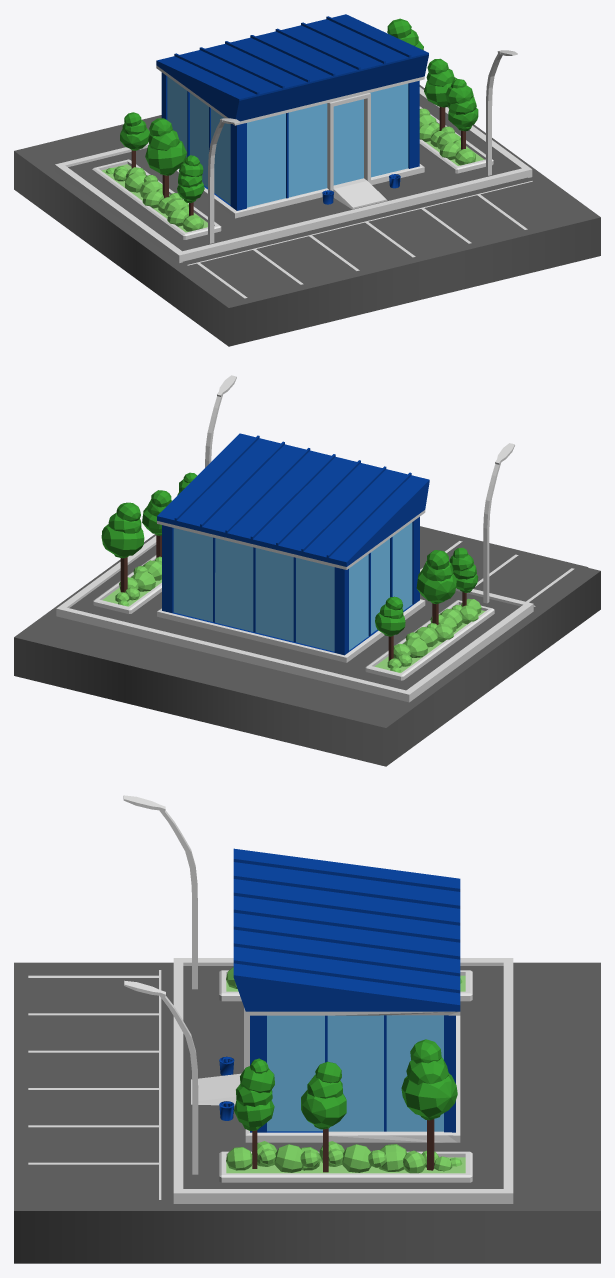
The model's file is shop1.glb.
3 renders of one model, top to bottom at view 1: azimuth 30°, elevation 25°; view 2: azimuth 150°, elevation 25°; view 3: azimuth 270°, elevation 25°, orthographic. The views are drawn at different scales.
Visible parts, largest first — view 1: Shop; view 2: Shop; view 3: Shop.
Part boxes in pixels (x1=…): Shop: x1=14, y1=14, x2=600, y2=346; Shop: x1=14, y1=375, x2=600, y2=766; Shop: x1=14, y1=795, x2=600, y2=1263.
Size of the model in its own units: 2 by 0.9428 by 2.
